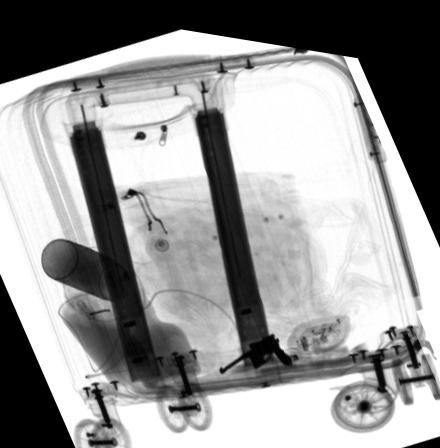Gun: (215, 324, 294, 368)
